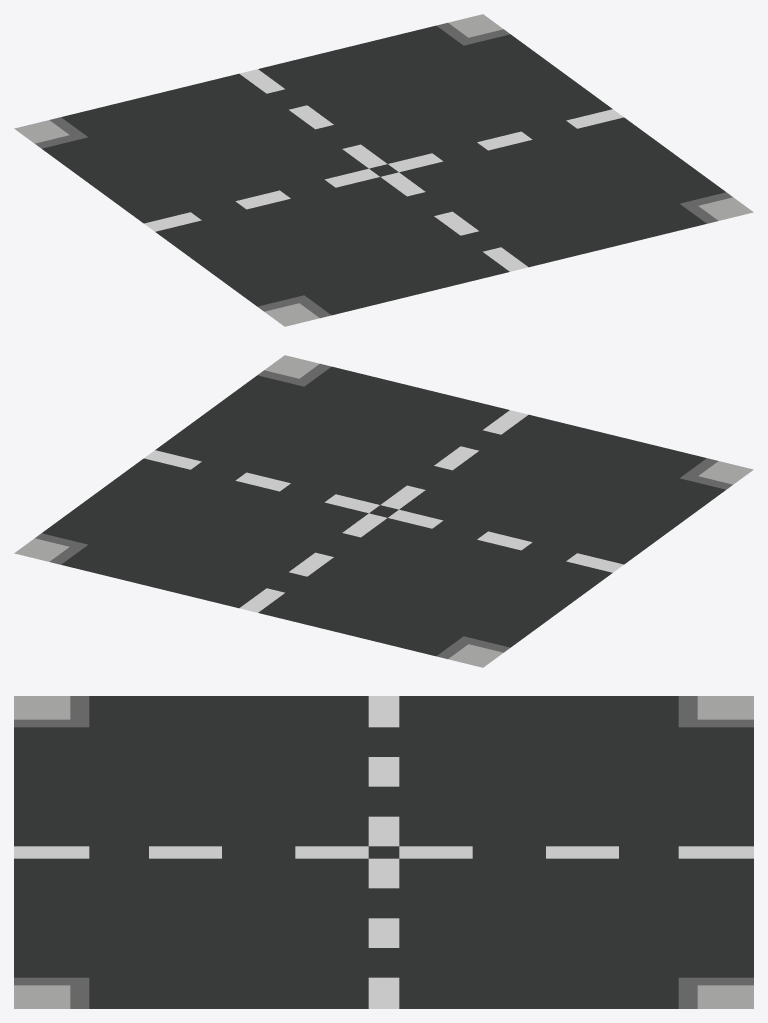
Rendered from SM_Road_Tile_Cross_Intersection.fbx.
3 views of the same model, one above another, from view 1: azimuth 30°, elevation 25°; view 2: azimuth 150°, elevation 25°; view 3: azimuth 270°, elevation 25° (orthographic). The views are drawn at different scales.
Parts seen in each view (by area): view 1: Tile_Road_Cross_Intersection; view 2: Tile_Road_Cross_Intersection; view 3: Tile_Road_Cross_Intersection.
Part boxes in pixels (left/top/right/bottom): Tile_Road_Cross_Intersection: left=14, top=14, right=753, bottom=326; Tile_Road_Cross_Intersection: left=14, top=355, right=753, bottom=667; Tile_Road_Cross_Intersection: left=14, top=696, right=753, bottom=1008.
Bounding box in the file's own units: 1000 × 0 × 1000.
Materials: 1 (1 with a texture image).
